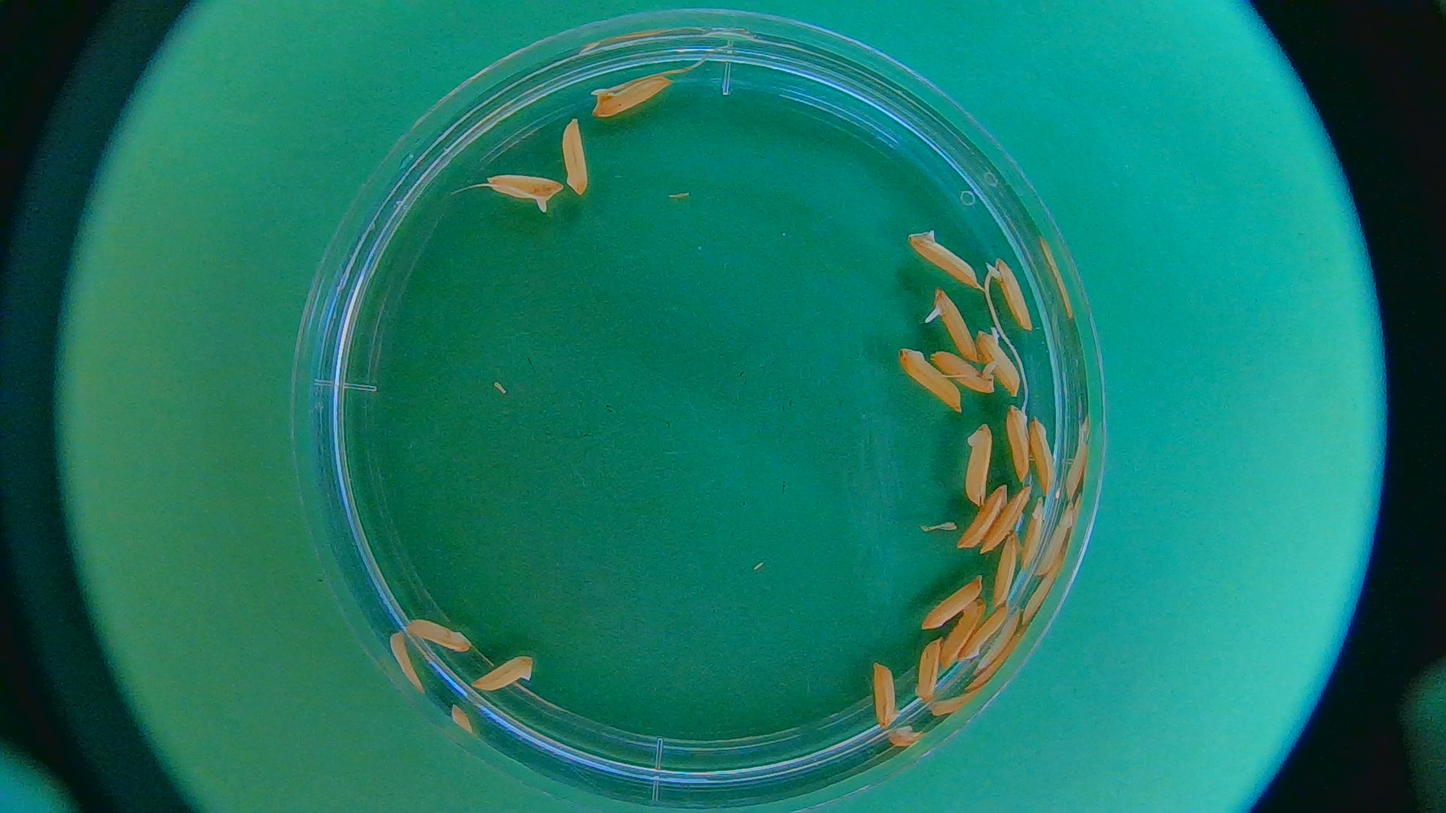no: (907, 228, 980, 286), (898, 346, 962, 410), (589, 72, 673, 120), (983, 489, 1033, 555), (923, 577, 984, 631), (940, 601, 985, 669), (961, 602, 1011, 661), (980, 332, 1023, 398), (956, 490, 1002, 550), (981, 333, 1023, 395), (474, 653, 535, 693), (964, 424, 994, 505), (561, 117, 590, 197), (407, 617, 471, 652), (1030, 419, 1058, 495), (993, 531, 1019, 604), (1006, 408, 1031, 480), (1022, 499, 1047, 570), (914, 638, 941, 701), (874, 662, 896, 732)
yes: (924, 289, 980, 362), (985, 257, 1034, 330), (485, 174, 565, 212), (935, 353, 999, 394)
